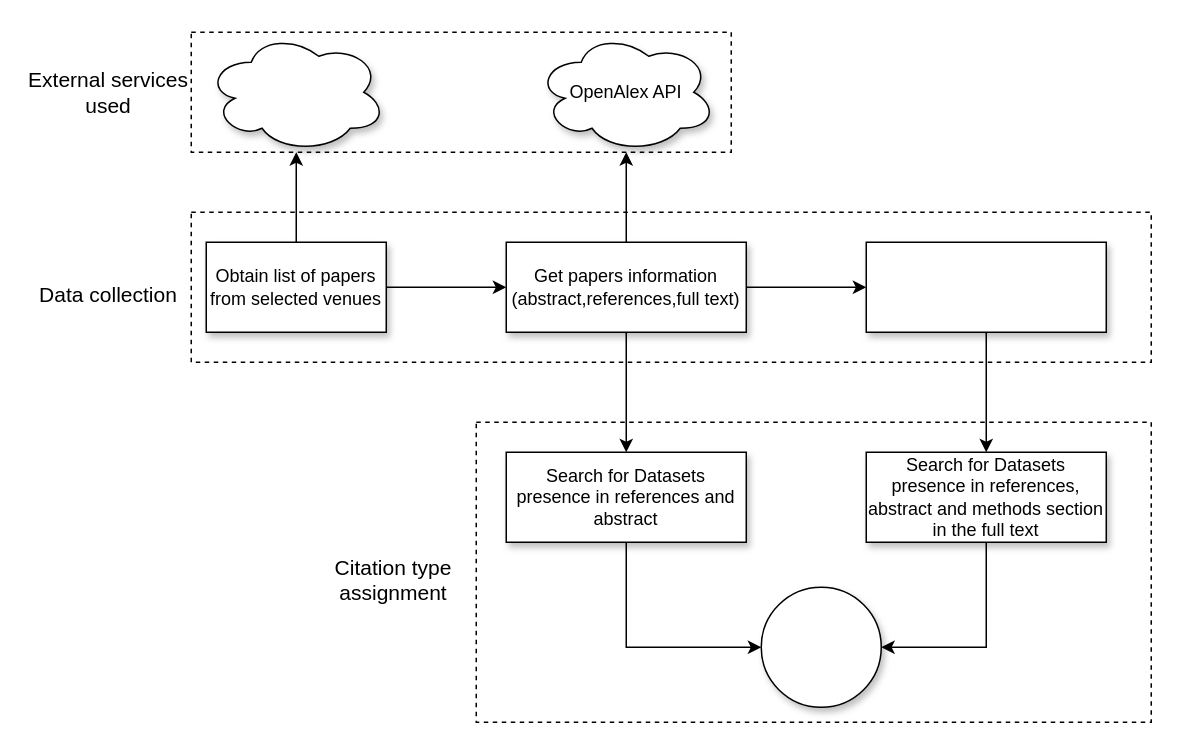
Image size: 1178x749. Some labels were removed from this diagram. The shapes that lost their labels are listed below. From the top down, each one's centre as x and y in pixels, then its label:
At (297,94): "DBLP API".
At (987,289): "Download full text if available".
At (822,649): "Combine and assign citation type".
